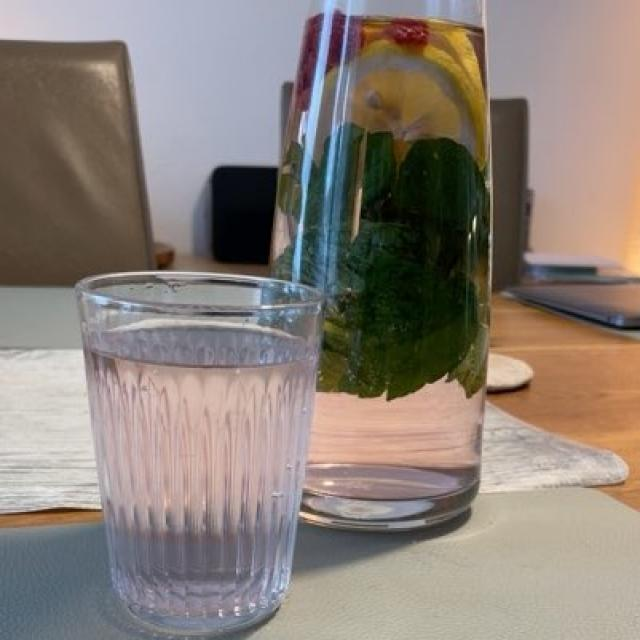water: (92, 329, 307, 606)
